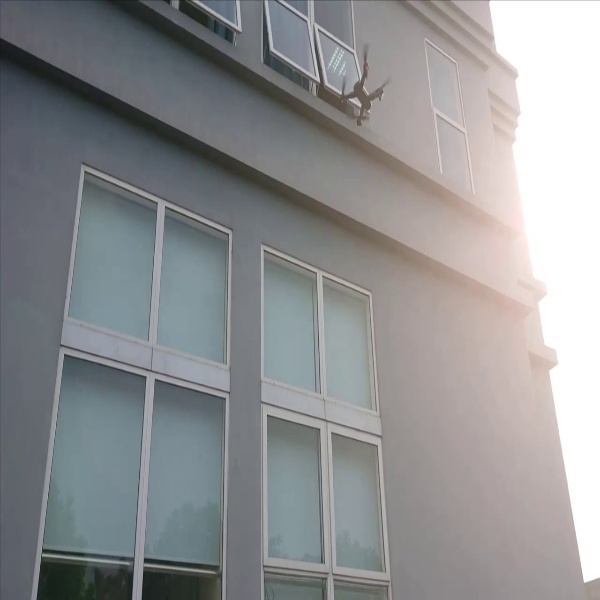drone: (327, 41, 392, 132)
